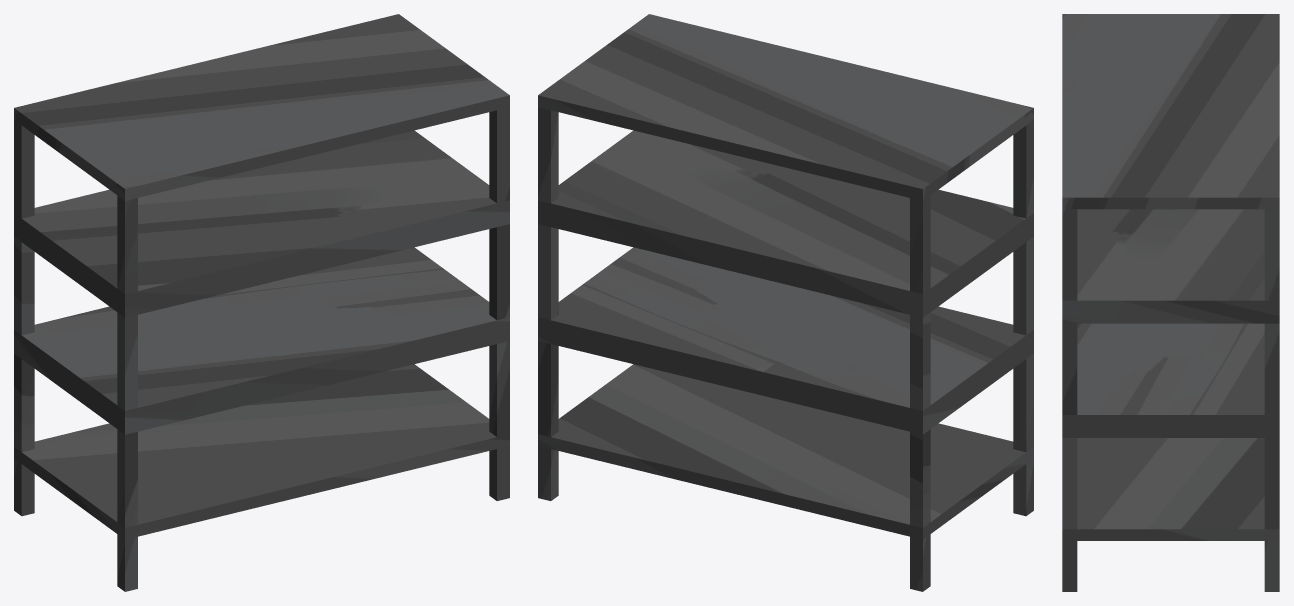
File: Prop_Shelf2.glb
3 views of the same model, side by side, from view 1: azimuth 30°, elevation 25°; view 2: azimuth 150°, elevation 25°; view 3: azimuth 270°, elevation 25° (orthographic). The views are drawn at different scales.
Parts seen in each view (by area): view 1: Prop_Shelf.001; view 2: Prop_Shelf.001; view 3: Prop_Shelf.001.
Boxes of the visible parts, x1,y1,x2,y2 form: Prop_Shelf.001: [14, 14, 509, 591]; Prop_Shelf.001: [538, 14, 1033, 591]; Prop_Shelf.001: [1062, 14, 1279, 591].
Size of the model in its own units: 2 by 2 by 1.
Materials: 1 (1 with a texture image).
